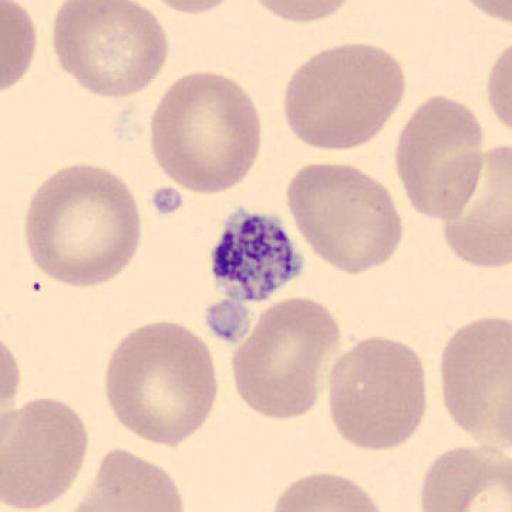Platelet: (206, 207, 307, 304), (202, 296, 252, 346)
RBC: (103, 318, 220, 448), (24, 163, 142, 290), (149, 70, 263, 198), (230, 296, 342, 422), (282, 42, 408, 152), (284, 162, 403, 276), (50, 0, 170, 100), (327, 334, 428, 452), (395, 93, 484, 220), (2, 396, 90, 510), (439, 315, 512, 441), (442, 143, 512, 269), (67, 445, 184, 512), (419, 445, 504, 512), (270, 469, 386, 512), (425, 150, 484, 221), (456, 448, 512, 512), (0, 0, 38, 93), (488, 42, 512, 177), (250, 0, 357, 24), (486, 41, 512, 134), (144, 0, 238, 16), (2, 336, 22, 410), (463, 0, 512, 24), (487, 0, 511, 24)
